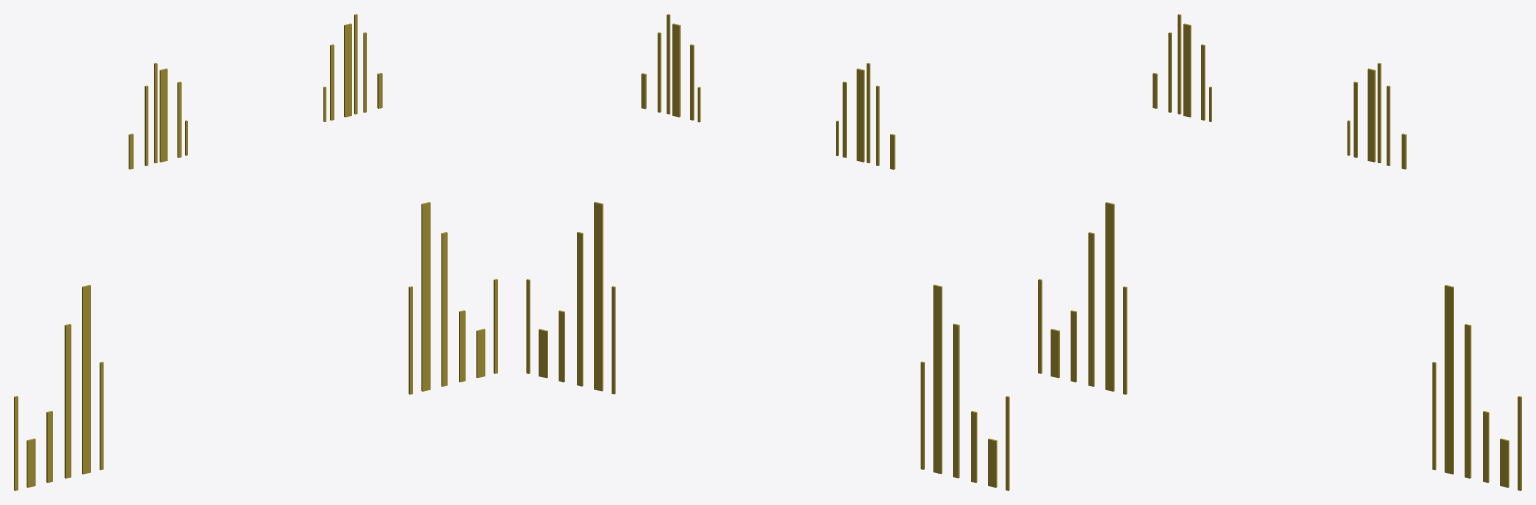
The model's file is Elevator Dekor.fbx.
3 views of the same model, side by side, from view 1: azimuth 30°, elevation 25°; view 2: azimuth 150°, elevation 25°; view 3: azimuth 330°, elevation 25° (orthographic).
Parts seen in each view (by area): view 1: Elevator Dekor right, Elevator Dekor left, Elevator Dekor top left, Elevator Dekor top right; view 2: Elevator Dekor left, Elevator Dekor right, Elevator Dekor top right, Elevator Dekor top left; view 3: Elevator Dekor right, Elevator Dekor left, Elevator Dekor top right, Elevator Dekor top left.
Part boxes in pixels (bbox=[...]): Elevator Dekor right: bbox=[408, 202, 497, 394]; Elevator Dekor left: bbox=[14, 285, 103, 490]; Elevator Dekor top left: bbox=[128, 63, 187, 169]; Elevator Dekor top right: bbox=[323, 14, 382, 121]; Elevator Dekor left: bbox=[920, 284, 1009, 490]; Elevator Dekor right: bbox=[526, 202, 615, 394]; Elevator Dekor top right: bbox=[641, 14, 700, 122]; Elevator Dekor top left: bbox=[836, 63, 895, 169]; Elevator Dekor right: bbox=[1432, 285, 1521, 490]; Elevator Dekor left: bbox=[1038, 202, 1127, 394]; Elevator Dekor top right: bbox=[1347, 63, 1406, 169]; Elevator Dekor top left: bbox=[1152, 14, 1211, 121].
Bounding box in the file's own units: 420 × 327 × 2.07.
